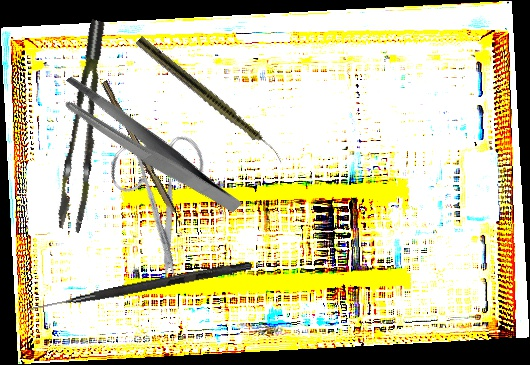Dressing Forceps: (53, 44, 243, 251)
Handpiece: (133, 35, 290, 165)
Hook Surgical: (26, 258, 253, 317)
Iris Scissors: (76, 108, 255, 288)
Scalpel Handle: (97, 80, 179, 215)
Tissue Forceps: (37, 19, 134, 233)
